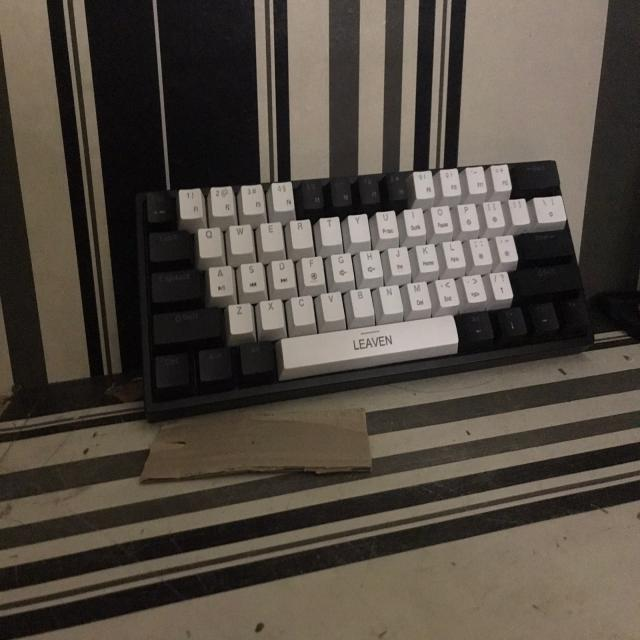-mouse-: (144, 157, 599, 403)
